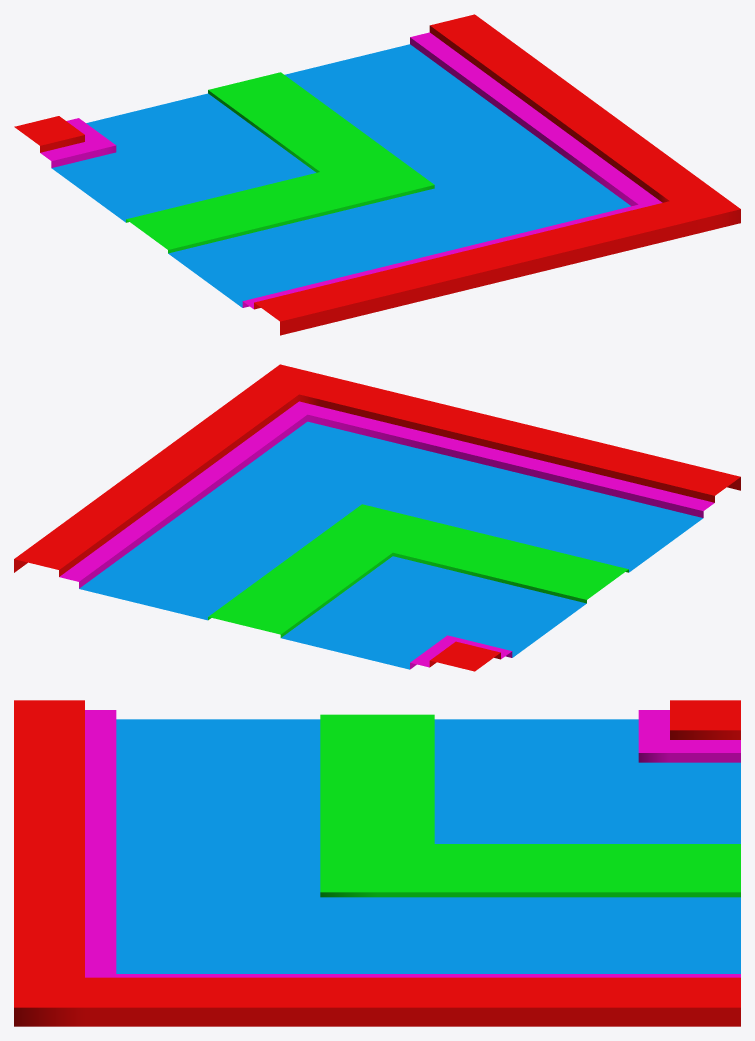
The model's file is FloorTurn.fbx.
The picture shows the model from 3 angles, top to bottom: view 1: azimuth 30°, elevation 25°; view 2: azimuth 150°, elevation 25°; view 3: azimuth 270°, elevation 25°; orthographic projection. The views are drawn at different scales.
Parts seen in each view (by area): view 1: Turn; view 2: Turn; view 3: Turn.
Part boxes in pixels (x1,y1,x2,y2): Turn: [14, 14, 740, 335]; Turn: [14, 364, 740, 671]; Turn: [14, 700, 740, 1026].
Bounding box in the file's own units: 78.74 × 2.28 × 78.74.
